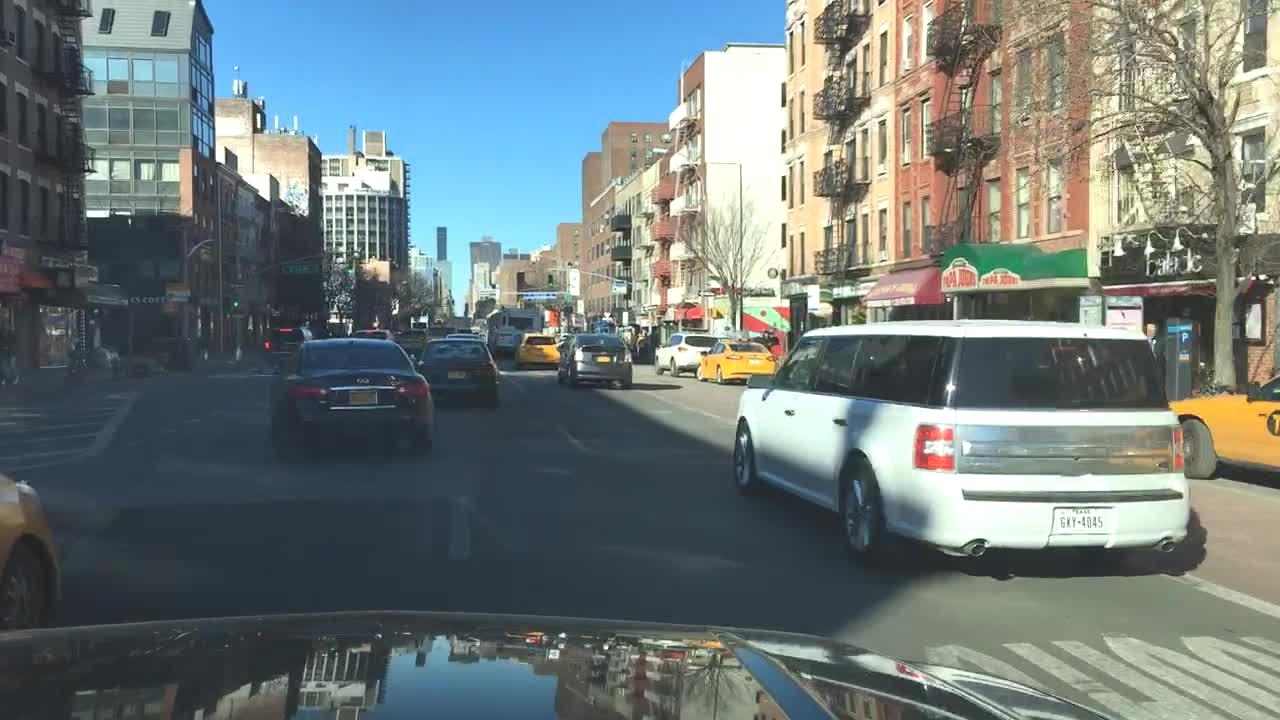Infiniti: (353, 373, 377, 388)
